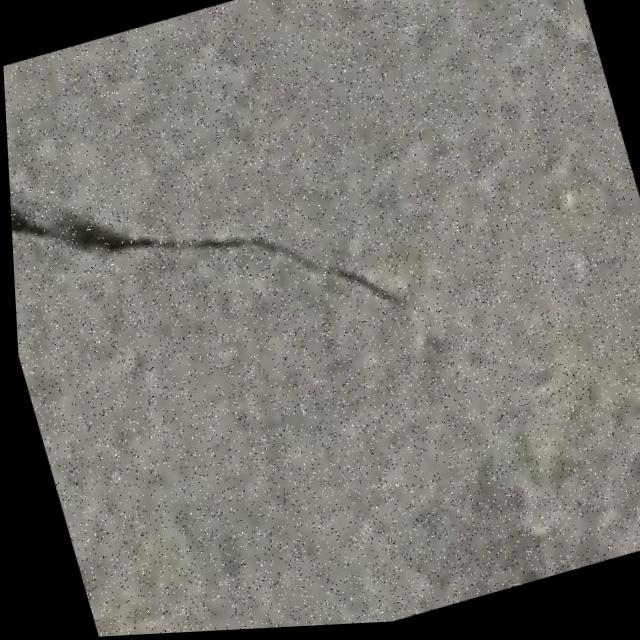Crack: (4, 87, 386, 408)
